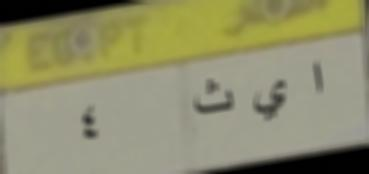4: (76, 102, 102, 146)
alif: (303, 59, 330, 100)
thaa: (188, 77, 238, 118)
yaa: (248, 78, 289, 127)
